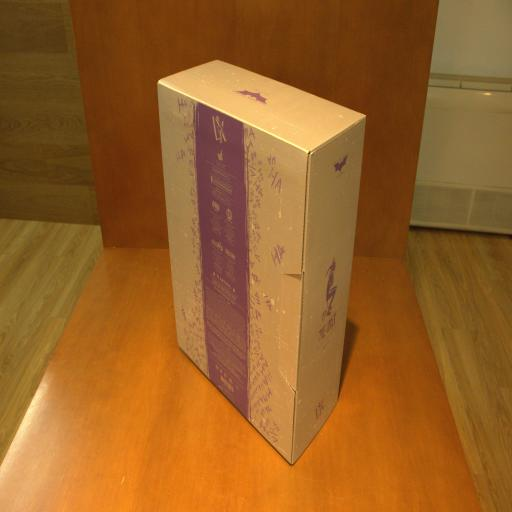Joker: (156, 58, 364, 463)
